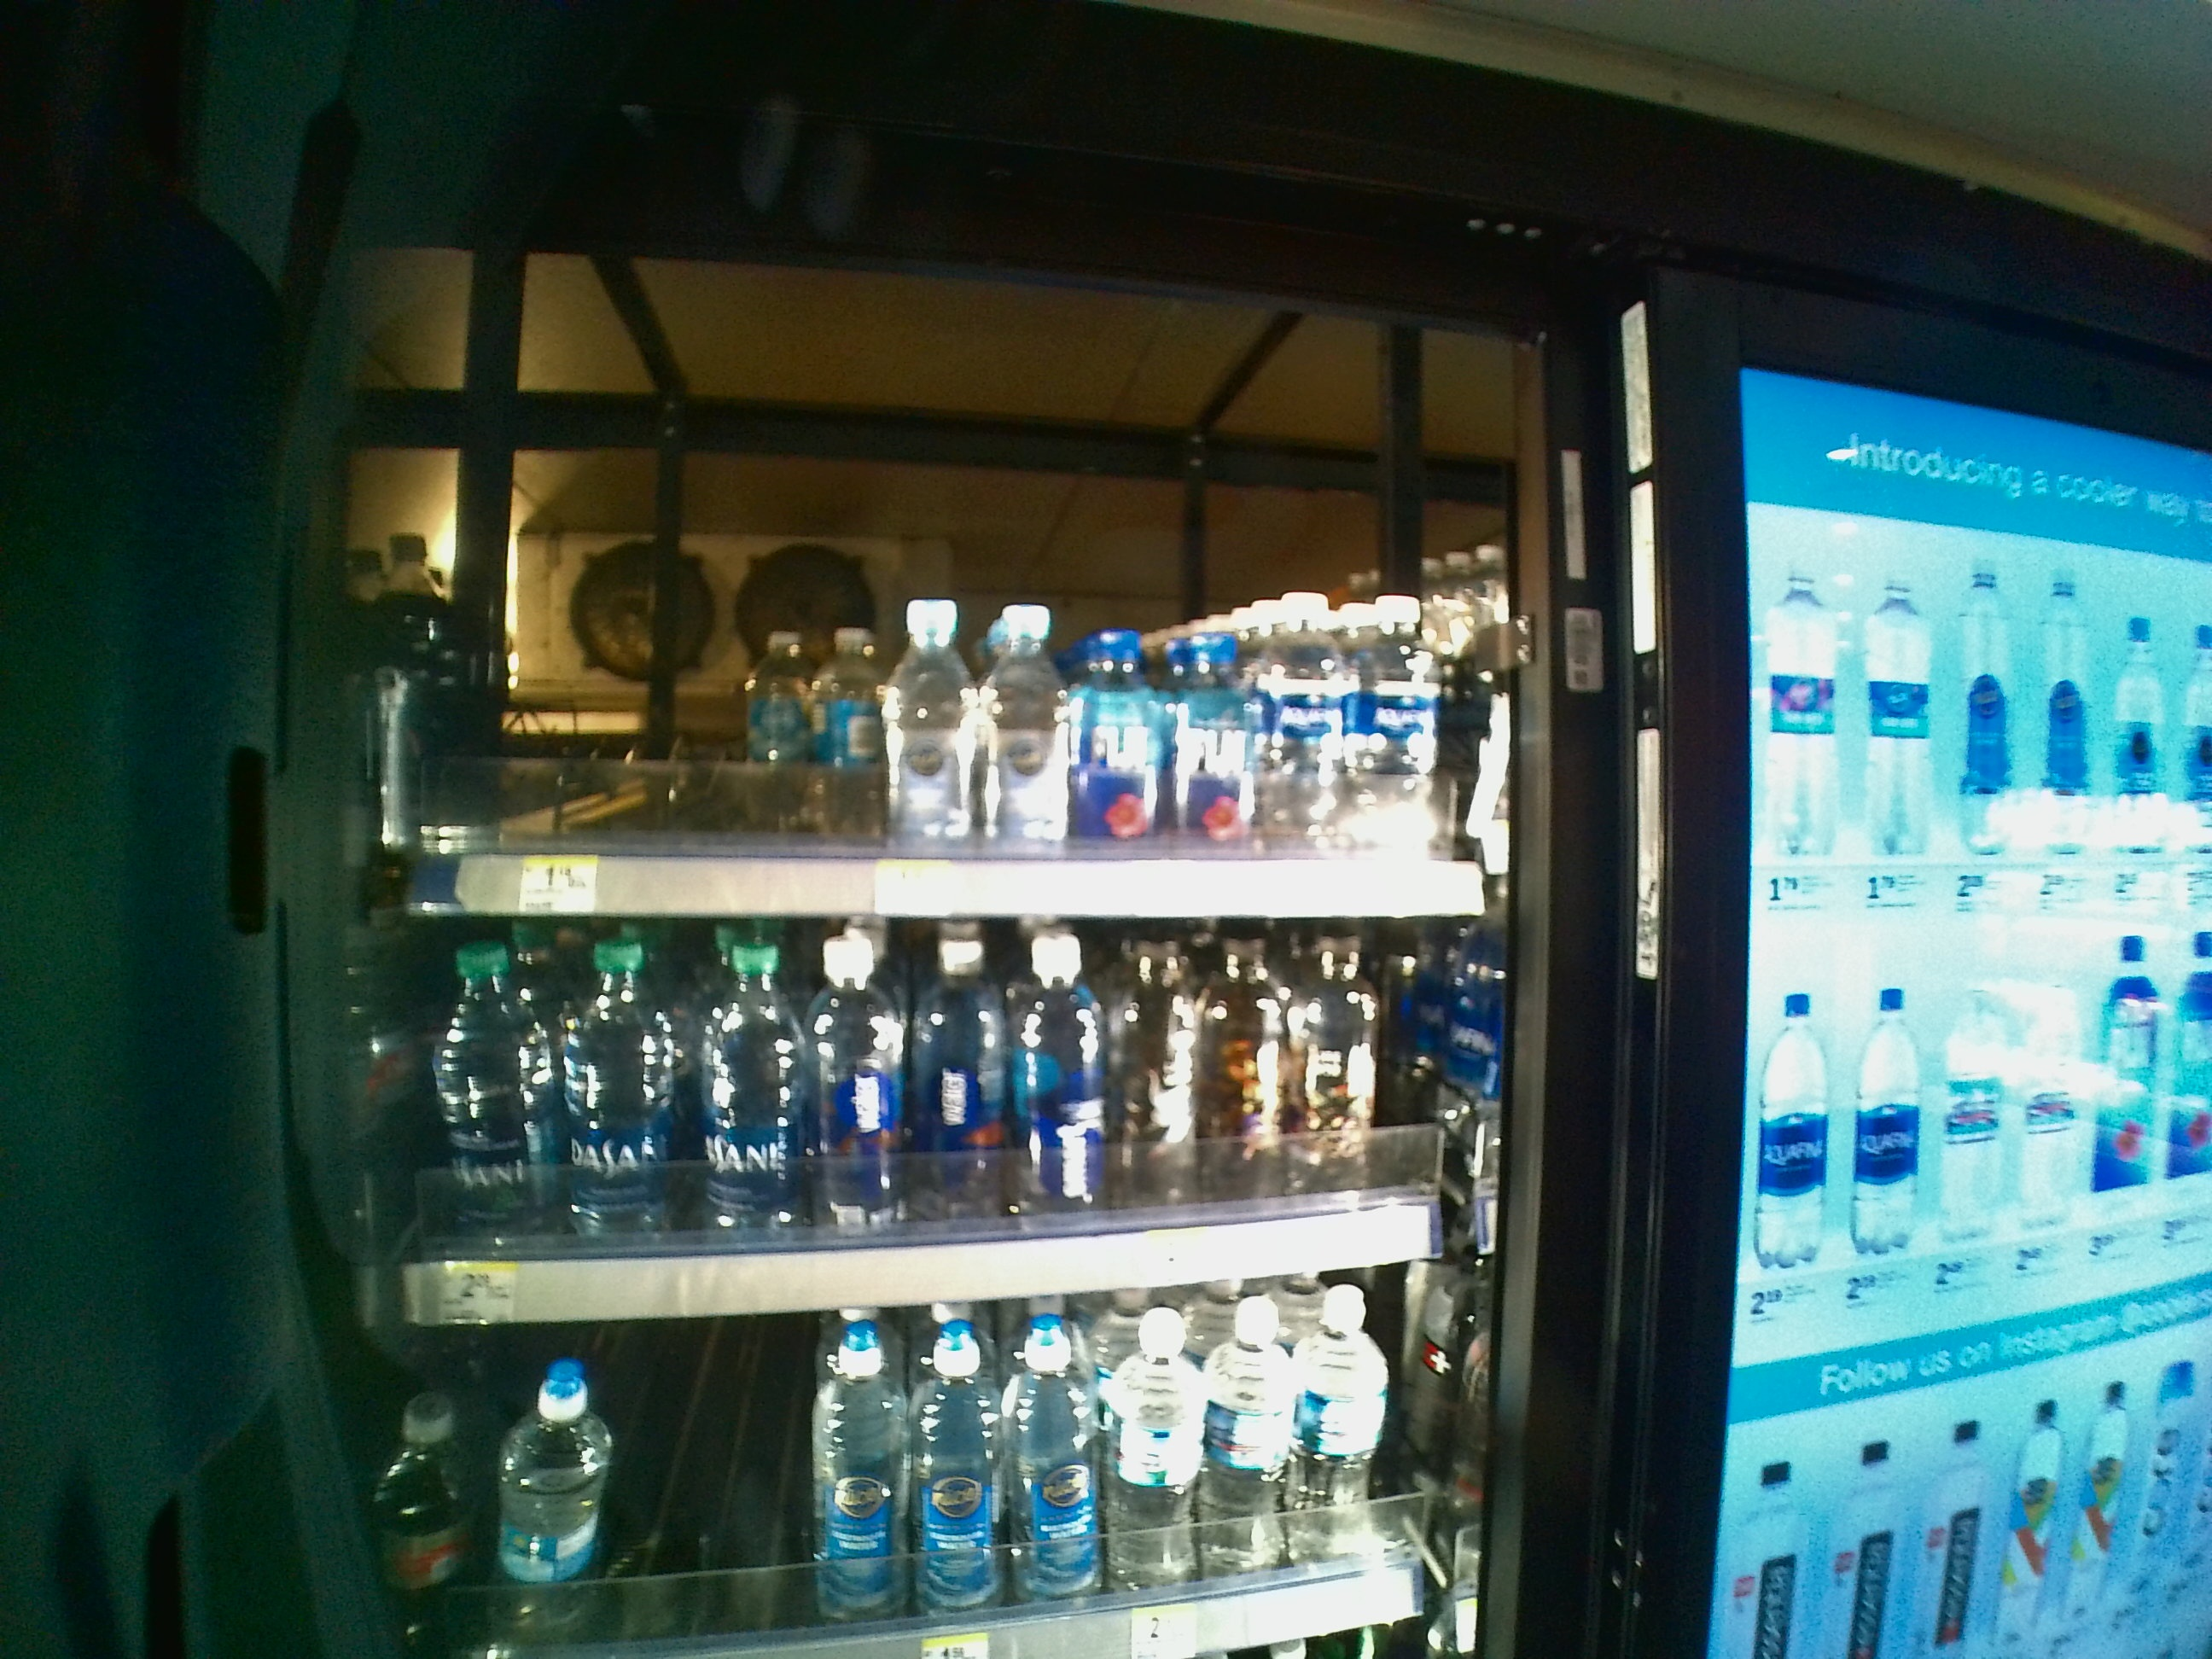Shelf: (364, 239, 1531, 924), (364, 924, 1536, 1333)
